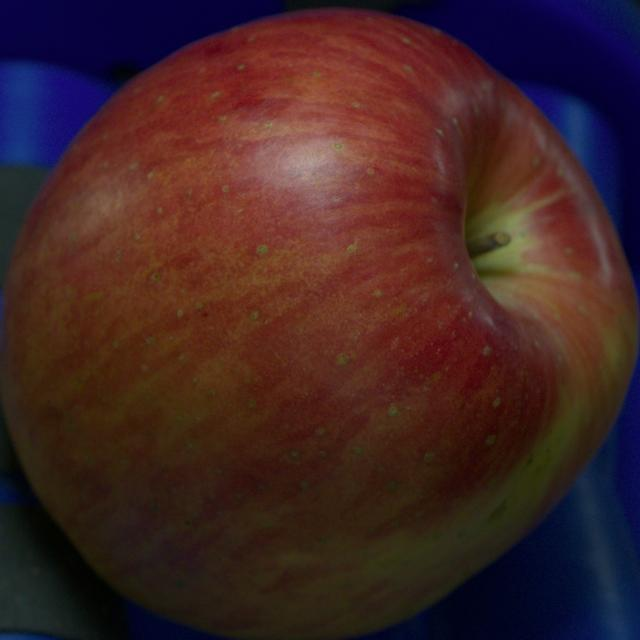apple: (0, 10, 638, 639)
